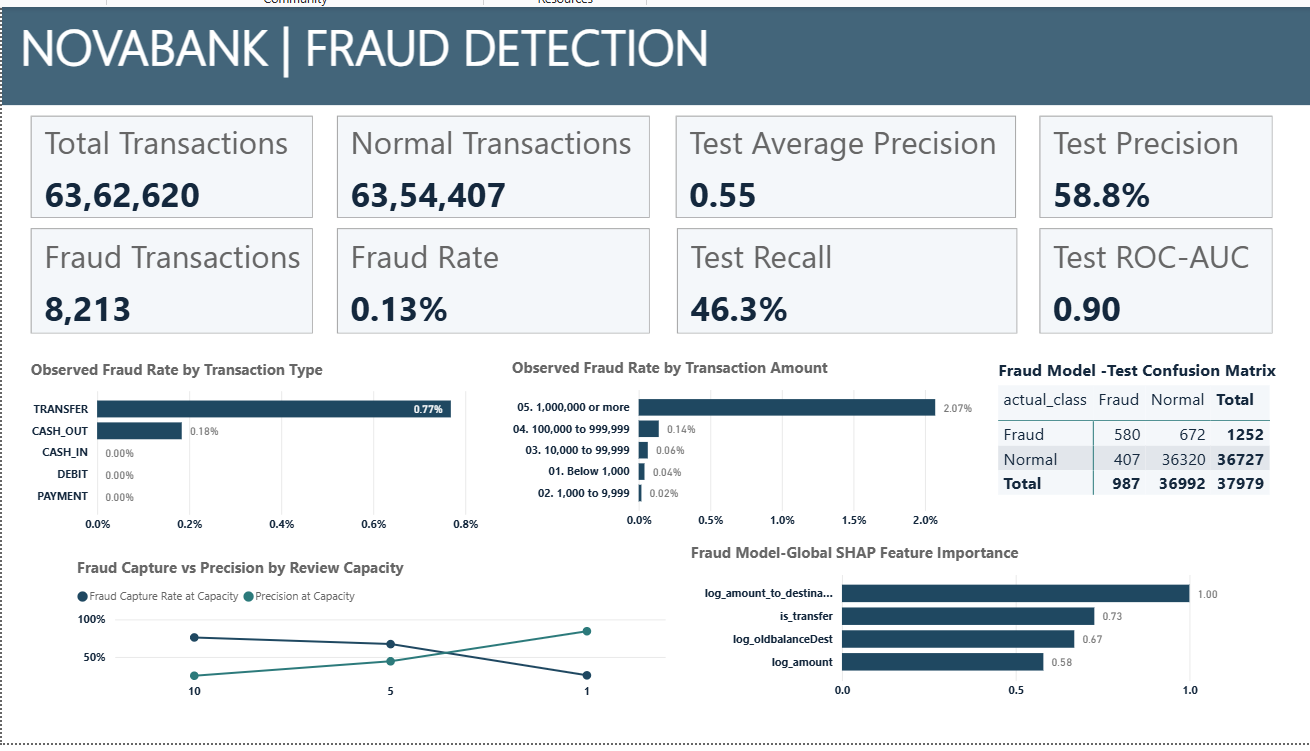

The dashboard page shown, as its layout file describes it:
{"tool":"powerbi","page":{"name":"fraud detection","canvas":[1280,720],"ordinal":1},"visuals":[{"type":"textbox","box":[0,0,1280,95.7],"z":0},{"type":"cardVisual","fields":{"Data":["baseline_metrics.Total Transactions"]},"box":[23.2,101.5,286.1,110.1],"z":1000},{"type":"cardVisual","fields":{"Data":["baseline_metrics.Fraud Transactions"]},"box":[23.2,211.6,286.1,113.7],"z":2000},{"type":"cardVisual","fields":{"Data":["baseline_metrics.Normal Transactions"]},"box":[322.8,101.5,316.7,110.1],"z":3000},{"type":"cardVisual","fields":{"Data":["baseline_metrics.Fraud Rate"]},"box":[322.8,211.6,316.7,113.7],"z":4000},{"type":"clusteredBarChart","title":"Observed Fraud Rate by Transaction Type","fields":{"Category":["fraud_by_transaction_type.transaction_type"],"Y":["fraud_by_transaction_type.Fraud Rate by Type"]},"box":[23.2,343.6,468.3,179.8],"z":5000},{"type":"clusteredBarChart","title":"Observed Fraud Rate by Transaction Amount","fields":{"Y":["fraud_by_amount_band.Fraud Rate by Amount"],"Category":["fraud_by_amount_band.amount_band"]},"box":[494,342.4,475.7,177.3],"z":6000},{"type":"lineChart","title":"Fraud Capture vs Precision by Review Capacity","fields":{"Category":["fraud_step_ablation_review_capacity.review_capacity_pct"],"Y":["fraud_step_ablation_review_capacity.Fraud Capture Rate at Capacity","fraud_step_ablation_review_capacity.Precision at Capacity"]},"box":[68.5,538,585.7,148],"z":7000},{"type":"cardVisual","fields":{"Data":["fraud_step_ablation_comparison.Test Average Precision"]},"box":[654.2,101.5,343.6,110.1],"z":8000},{"type":"cardVisual","fields":{"Data":["fraud_step_ablation_comparison.Test Precision"]},"box":[1010.1,101.5,238.5,110.1],"z":9000},{"type":"cardVisual","fields":{"Data":["fraud_step_ablation_comparison.Test Recall"]},"box":[655.4,211.6,343.6,113.7],"z":10000},{"type":"cardVisual","fields":{"Data":["fraud_step_ablation_comparison.Test ROC-AUC"]},"box":[1010.1,211.6,238.5,113.7],"z":11000},{"type":"clusteredBarChart","title":"Fraud Model-Global SHAP Feature Importance","fields":{"Category":["fraud_no_step_shap_global_importance.feature"],"Y":["Sum(fraud_no_step_shap_global_importance.mean_absolute_shap)"]},"box":[668.9,523.4,560.1,162.6],"z":12000},{"type":"pivotTable","title":"Fraud Model -Test Confusion Matrix","fields":{"Rows":["NovaBank_fraud_confusion_matrix.actual_class"],"Columns":["NovaBank_fraud_confusion_matrix.predicted_class"],"Values":["Sum(NovaBank_fraud_confusion_matrix.transaction_count)"]},"box":[969.7,343.6,300.8,152.9],"z":13000}]}

Visuals, with their boxes in screenshot pixels (x1, y1, x2, y2), scaled from the page's 1280x720 canvas onto the 1310x751 screenshot:
textbox: region(0, 0, 1309, 100)
cardVisual - baseline_metrics.Total Transactions: region(24, 106, 317, 221)
cardVisual - baseline_metrics.Fraud Transactions: region(24, 221, 317, 339)
cardVisual - baseline_metrics.Normal Transactions: region(330, 106, 654, 221)
cardVisual - baseline_metrics.Fraud Rate: region(330, 221, 654, 339)
"Observed Fraud Rate by Transaction Type" clusteredBarChart: region(24, 358, 503, 546)
"Observed Fraud Rate by Transaction Amount" clusteredBarChart: region(506, 357, 992, 542)
"Fraud Capture vs Precision by Review Capacity" lineChart: region(70, 561, 670, 716)
cardVisual - fraud_step_ablation_comparison.Test Average Precision: region(670, 106, 1021, 221)
cardVisual - fraud_step_ablation_comparison.Test Precision: region(1034, 106, 1278, 221)
cardVisual - fraud_step_ablation_comparison.Test Recall: region(671, 221, 1022, 339)
cardVisual - fraud_step_ablation_comparison.Test ROC-AUC: region(1034, 221, 1278, 339)
"Fraud Model-Global SHAP Feature Importance" clusteredBarChart: region(685, 546, 1258, 716)
"Fraud Model -Test Confusion Matrix" pivotTable: region(992, 358, 1300, 518)
